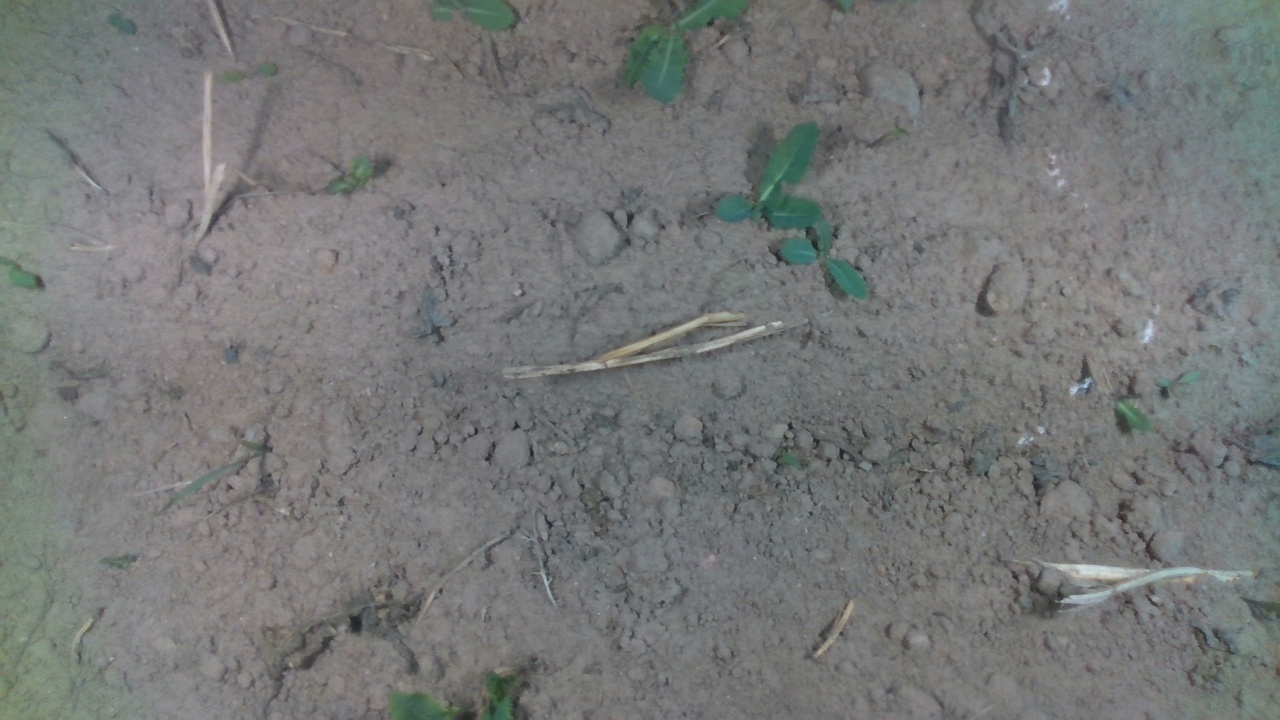weed: (1151, 369, 1201, 398)
